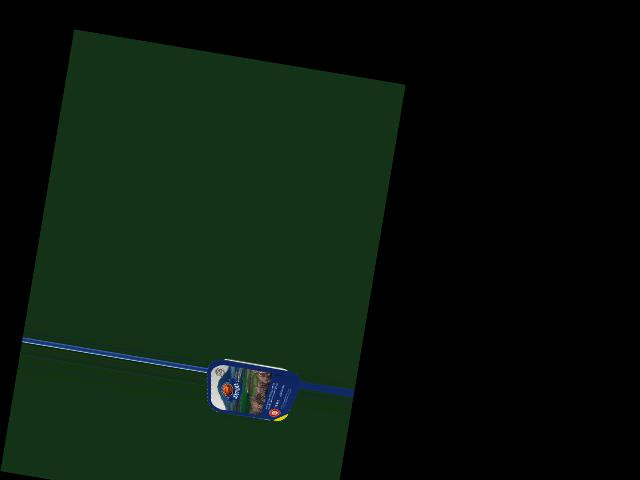cheese: (207, 350, 293, 425)
